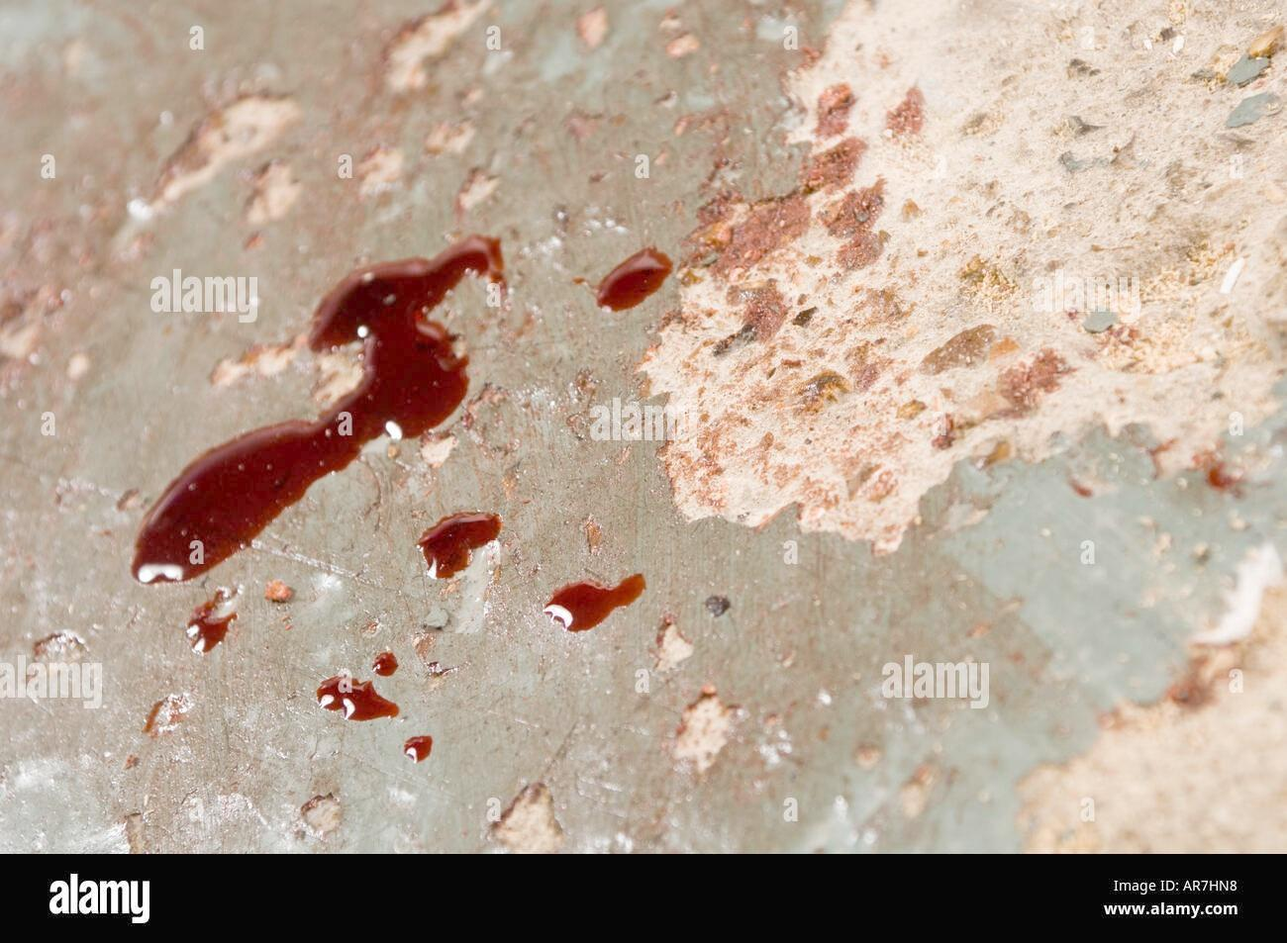Bloodstain-Detection: (323, 309, 453, 423), (172, 475, 284, 528)
